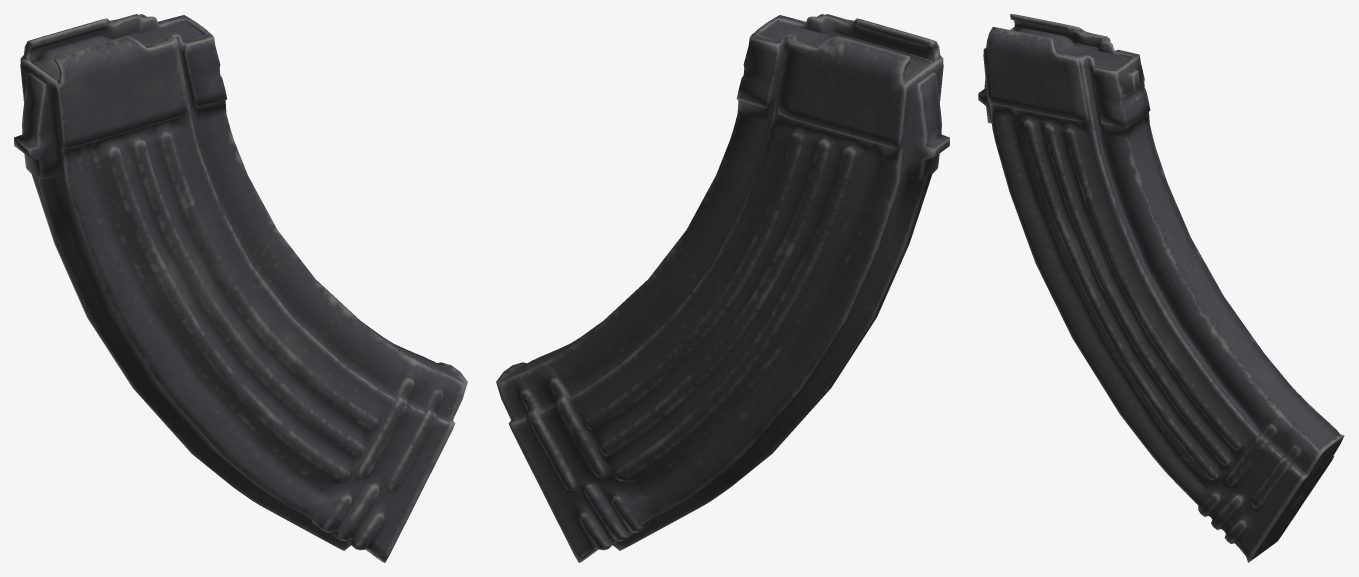
The model's file is ak_47_round.obj.
3 views of the same model, side by side, from view 1: azimuth 30°, elevation 25°; view 2: azimuth 150°, elevation 25°; view 3: azimuth 330°, elevation 25° (orthographic). The views are drawn at different scales.
Visible parts, largest first — view 1: ak_47_round; view 2: ak_47_round; view 3: ak_47_round.
Boxes of the visible parts, <box> form: ak_47_round: <box>14,14,467,562</box>; ak_47_round: <box>496,14,949,562</box>; ak_47_round: <box>978,14,1344,562</box>.
Size of the model in its own units: 0.8755 by 1.13 by 0.142.
